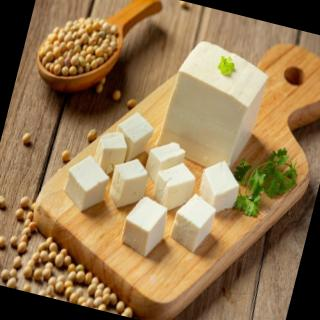Tahu: (43, 99, 264, 283)
